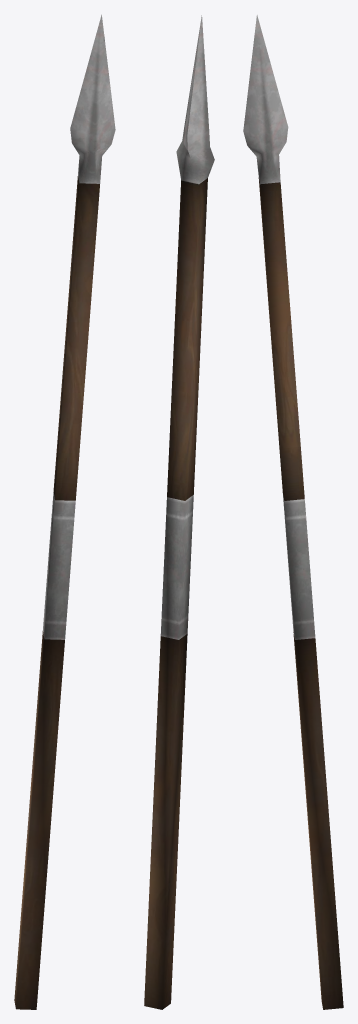
Rendered from weapon-copperweapons.glb.
3 views of the same model, side by side, from view 1: azimuth 90°, elevation 25°; view 2: azimuth 150°, elevation 25°; view 3: azimuth 270°, elevation 25° (orthographic). The views are drawn at different scales.
Bounding box in the file's own units: 0.0881 × 2.21 × 0.2036.
Materials: 1 (1 with a texture image).
